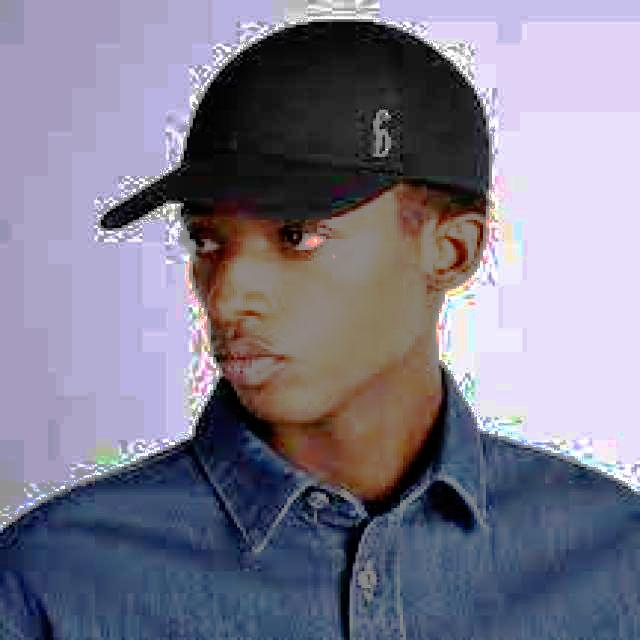TOPI: (99, 15, 497, 235)
